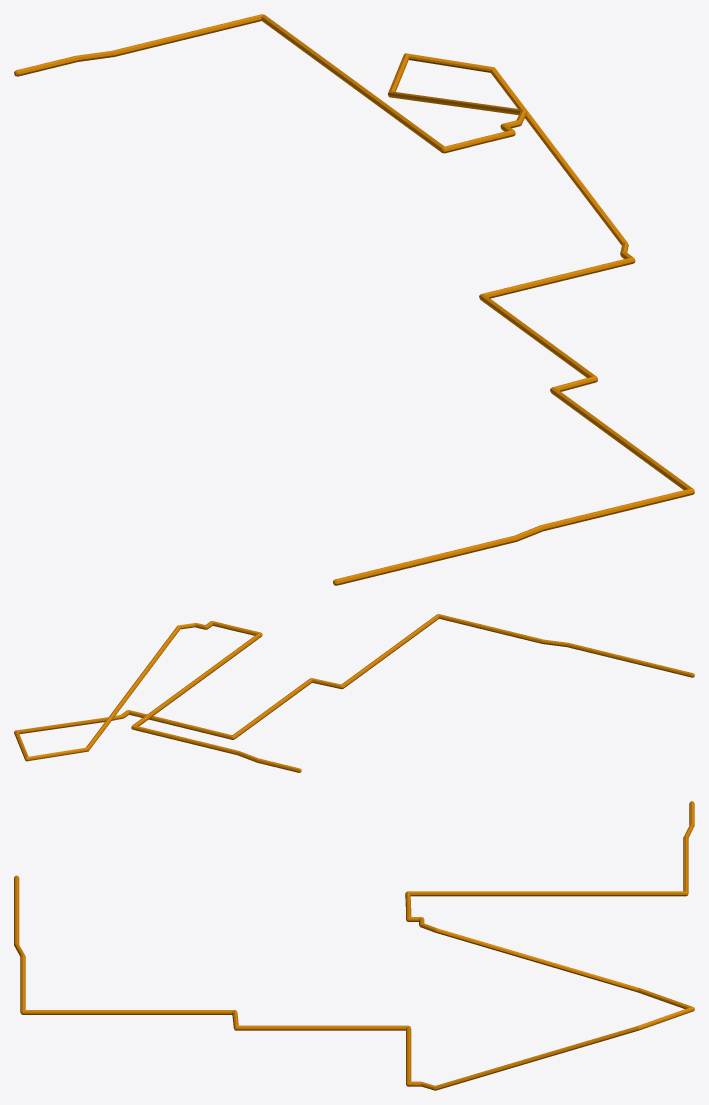
3 renders of one model, top to bottom at view 1: azimuth 30°, elevation 25°; view 2: azimuth 150°, elevation 25°; view 3: azimuth 270°, elevation 25°, orthographic. The views are drawn at different scales.
Bounding box in the file's own units: 1900 × 520 × 2572.
